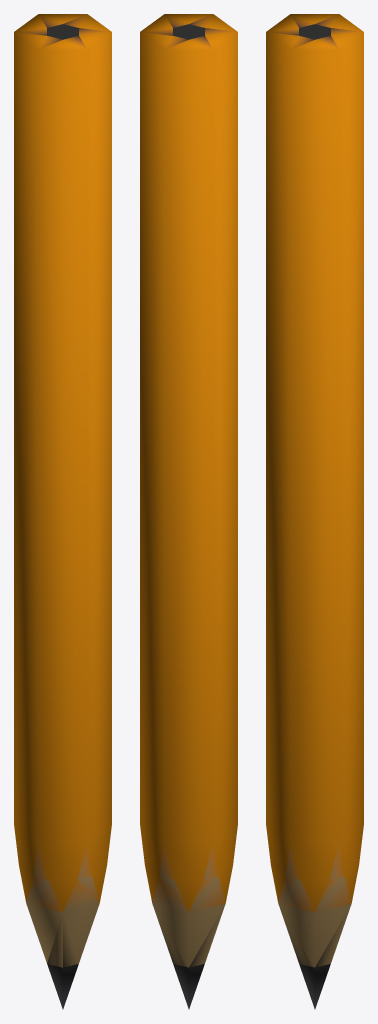
File: Pencil.fbx
3 renders of one model, left to right at view 1: azimuth 90°, elevation 25°; view 2: azimuth 150°, elevation 25°; view 3: azimuth 270°, elevation 25°, orthographic.
Parts seen in each view (by area): view 1: Cylinder; view 2: Cylinder; view 3: Cylinder.
Part boxes in pixels (<box>): Cylinder: <box>14,14,111,1009</box>; Cylinder: <box>140,14,237,1009</box>; Cylinder: <box>266,14,363,1009</box>.
Size of the model in its own units: 1.73 by 22.04 by 2.
